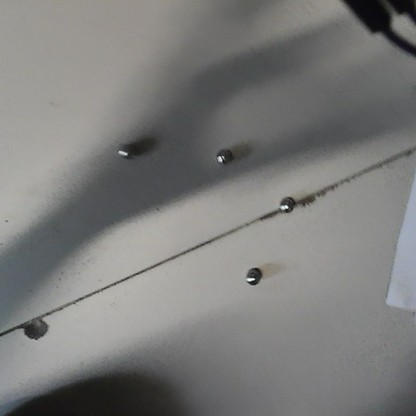ironball: (275, 193, 296, 214), (212, 146, 232, 166), (115, 140, 134, 160), (243, 268, 262, 287)
